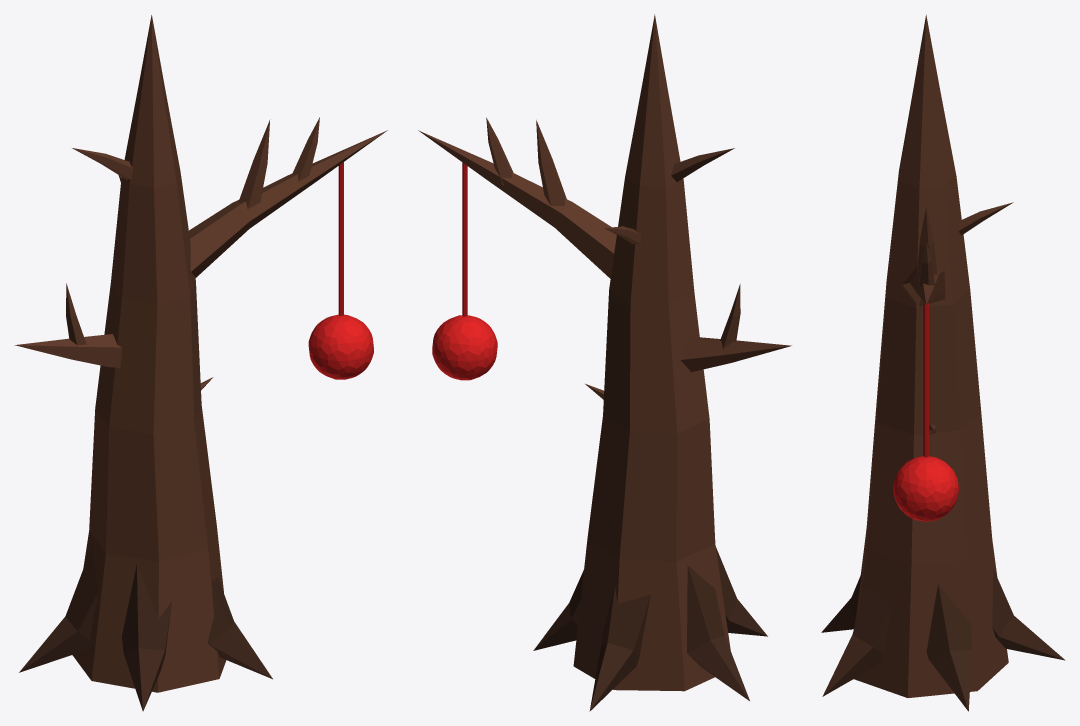
File: zc_dead_tree.mobile-high.glb
3 views of the same model, side by side, from view 1: azimuth 30°, elevation 25°; view 2: azimuth 150°, elevation 25°; view 3: azimuth 270°, elevation 25° (orthographic).
Parts seen in each view (by area): view 1: zc_dead_tree, yarn; view 2: zc_dead_tree, yarn; view 3: zc_dead_tree, yarn.
Boxes of the visible parts, box(x1,y1,x2,y2) form: zc_dead_tree: box(14, 15, 387, 711); yarn: box(308, 162, 373, 379); zc_dead_tree: box(418, 14, 791, 711); yarn: box(432, 162, 497, 380); zc_dead_tree: box(821, 14, 1065, 711); yarn: box(893, 302, 959, 521).
Bounding box in the file's own units: 1.58 × 2.61 × 0.8894.
1 material, 1 textured.
